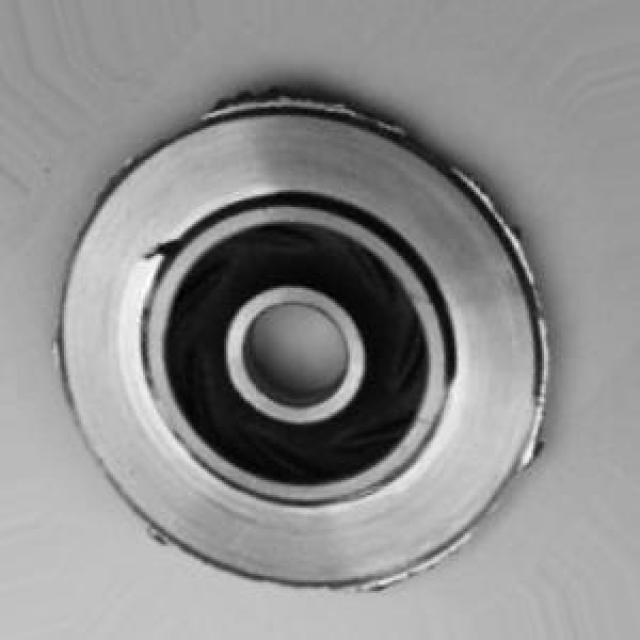Defect: (134, 222, 197, 273)
